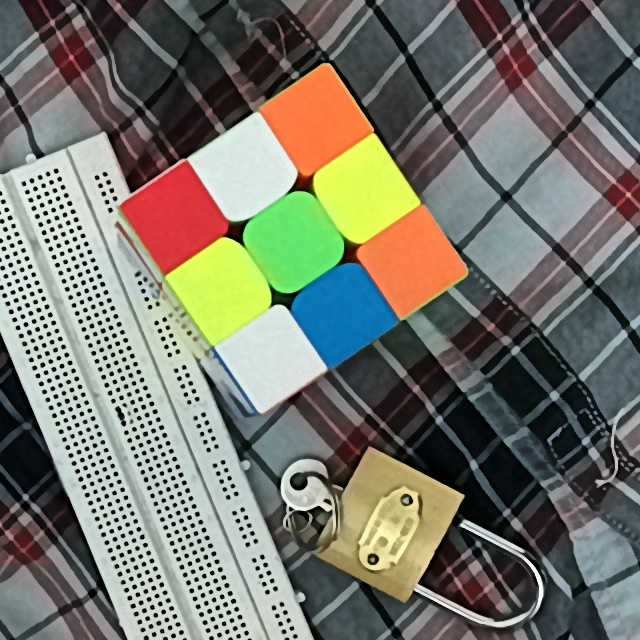tile: (263, 210, 323, 273), (284, 91, 344, 151), (241, 328, 301, 386), (312, 286, 370, 343), (191, 262, 252, 316), (214, 144, 274, 198), (383, 237, 439, 293), (149, 190, 203, 247), (334, 165, 391, 218)
